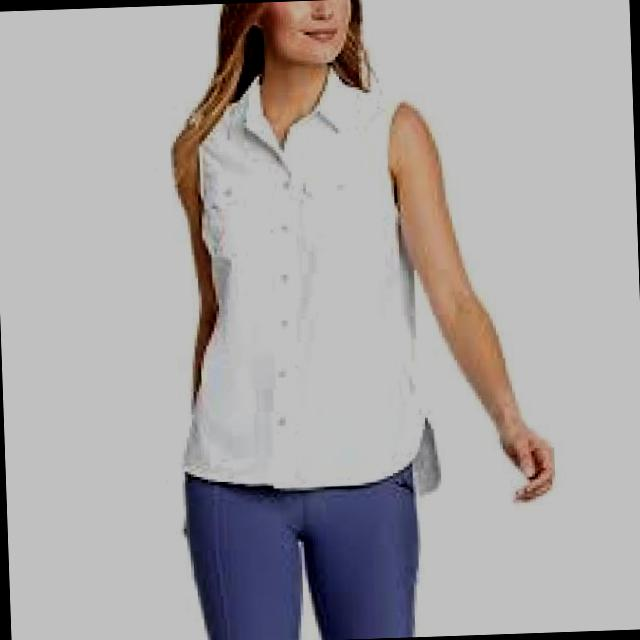no_vest: (169, 61, 444, 506)
